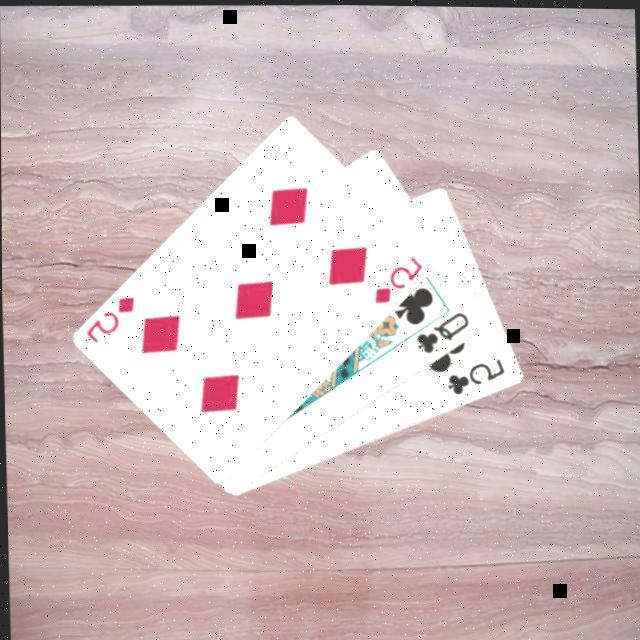5C: (445, 352, 510, 397)
5D: (371, 250, 428, 306), (84, 290, 140, 346)
QC: (414, 304, 474, 356)
